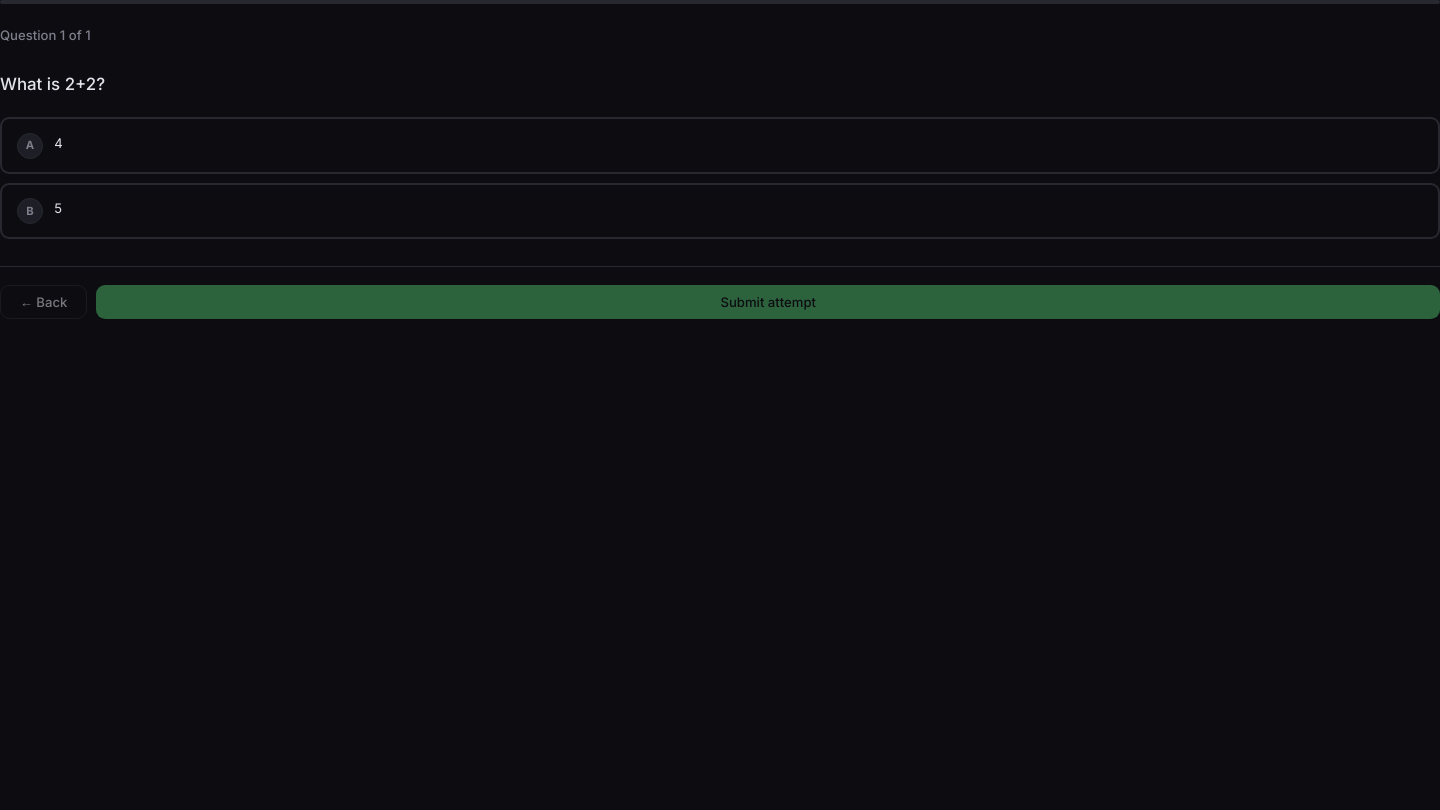
Test case: AttemptFlow — attempt saving › shows score screen with review after finalize
The image size is (1440, 810).
Click the text "4" at (59, 142), box x1=54 y1=134 x2=63 y2=150
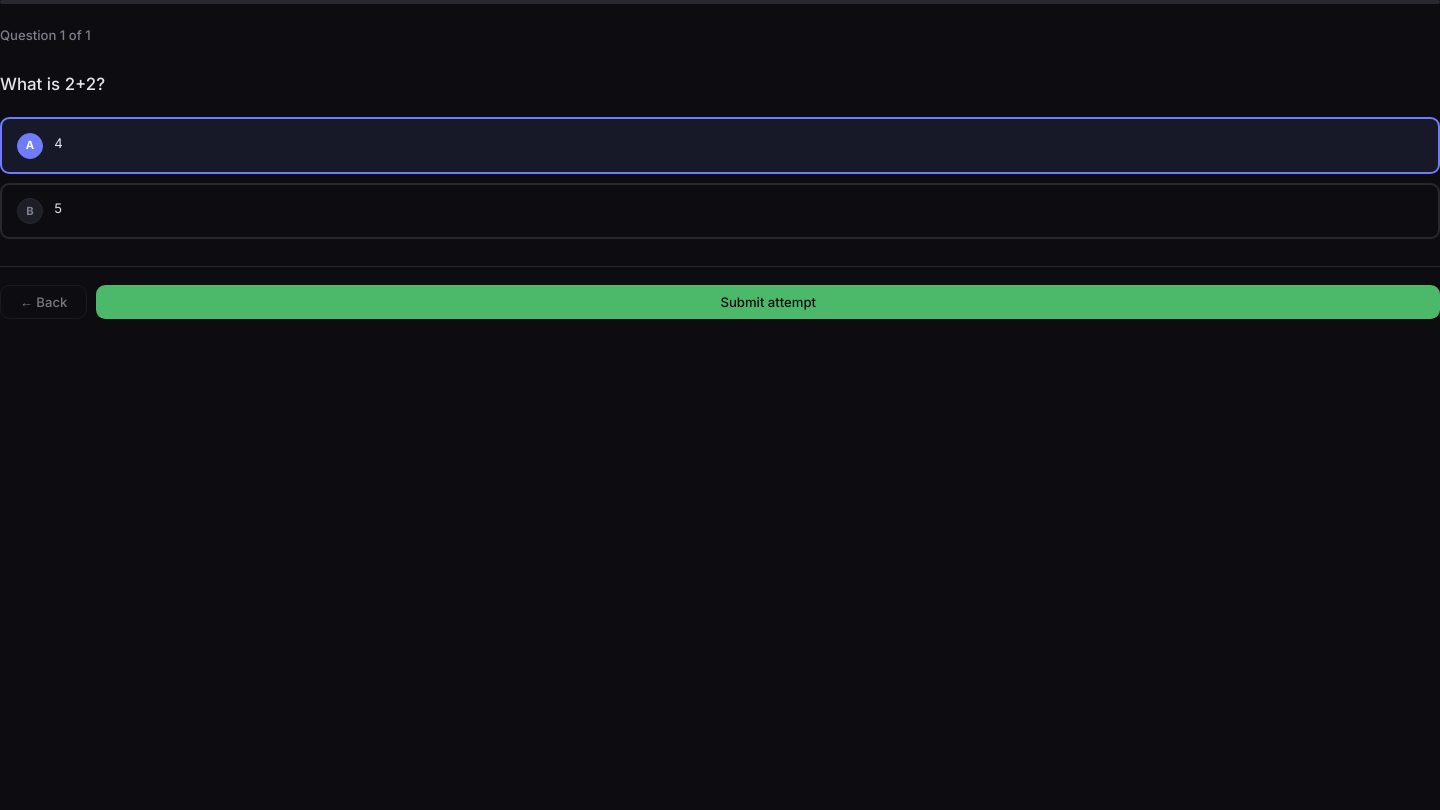
Click the button "Submit attempt" at (768, 302), box x1=96 y1=285 x2=1439 y2=319
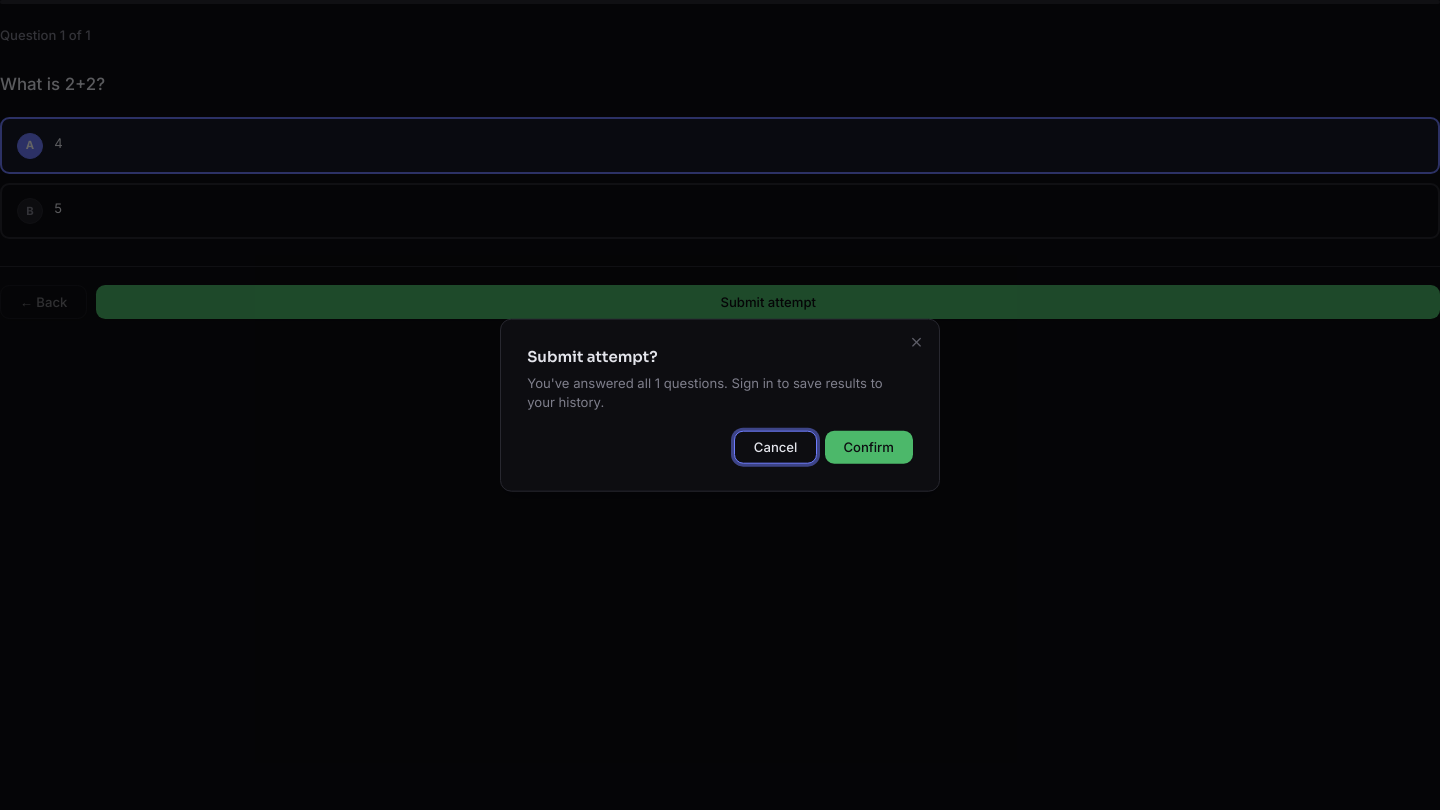
Click the button "Confirm" at (869, 447), box x1=825 y1=430 x2=913 y2=464
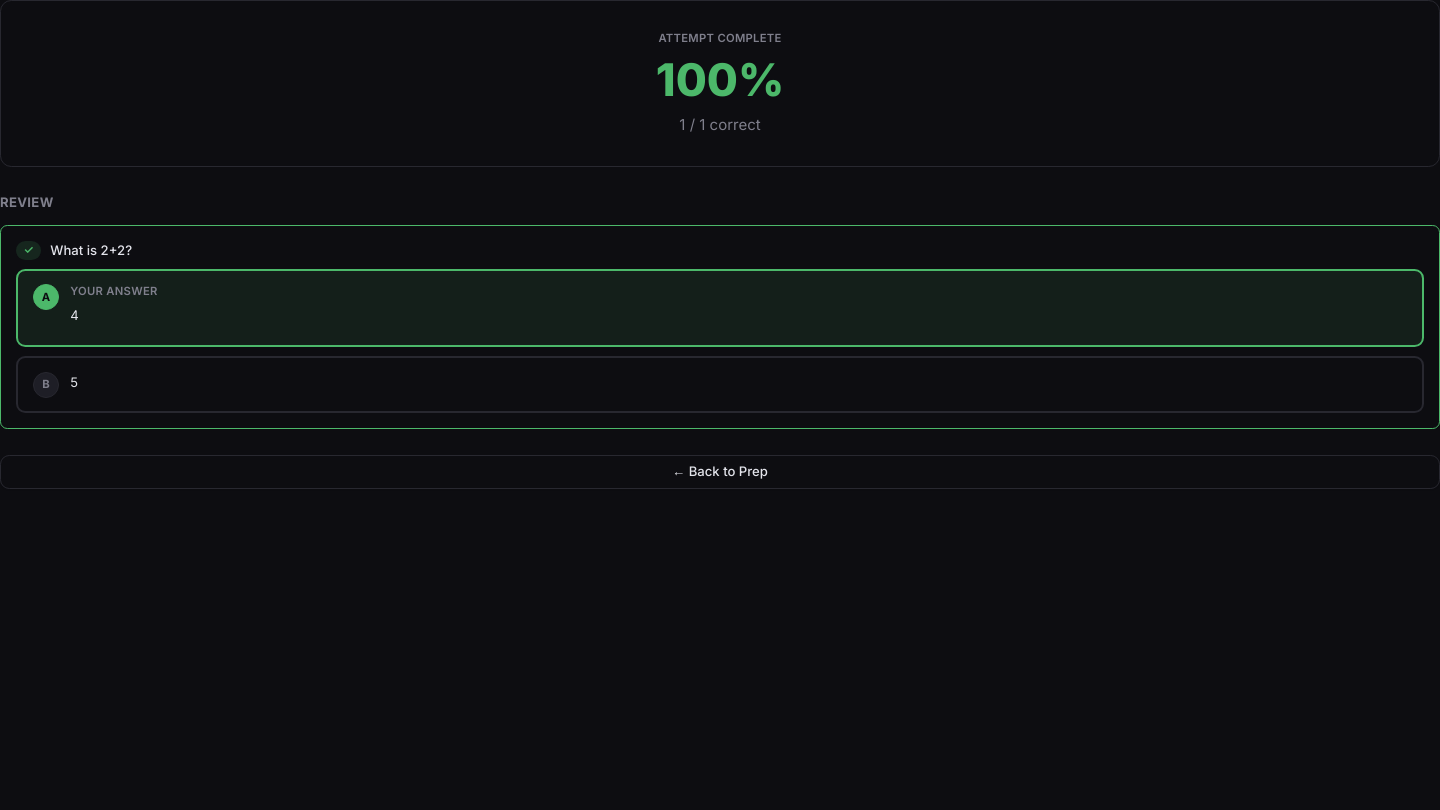
Expected: the text "Attempt complete" is shown, x1=658 y1=31 x2=782 y2=46
Expected: the heading "Review" is shown, x1=0 y1=194 x2=54 y2=210
